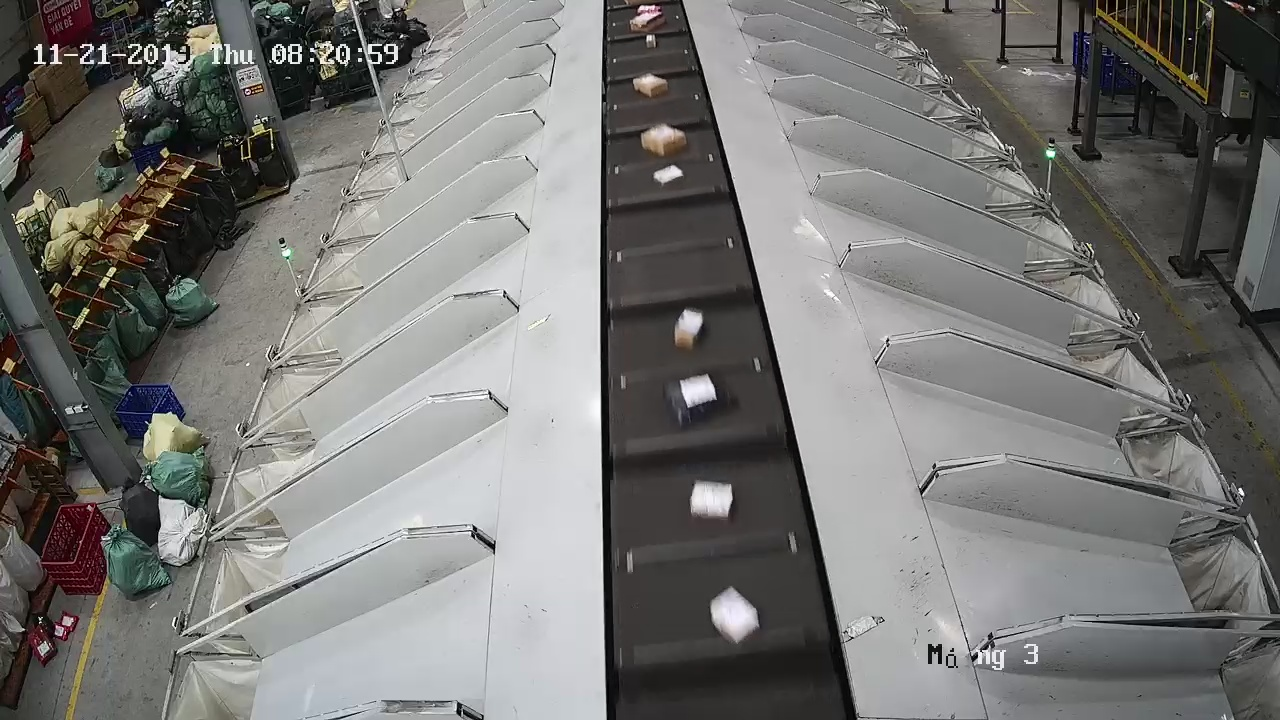parcel: (663, 373, 729, 428), (687, 477, 737, 524), (673, 308, 706, 350)
